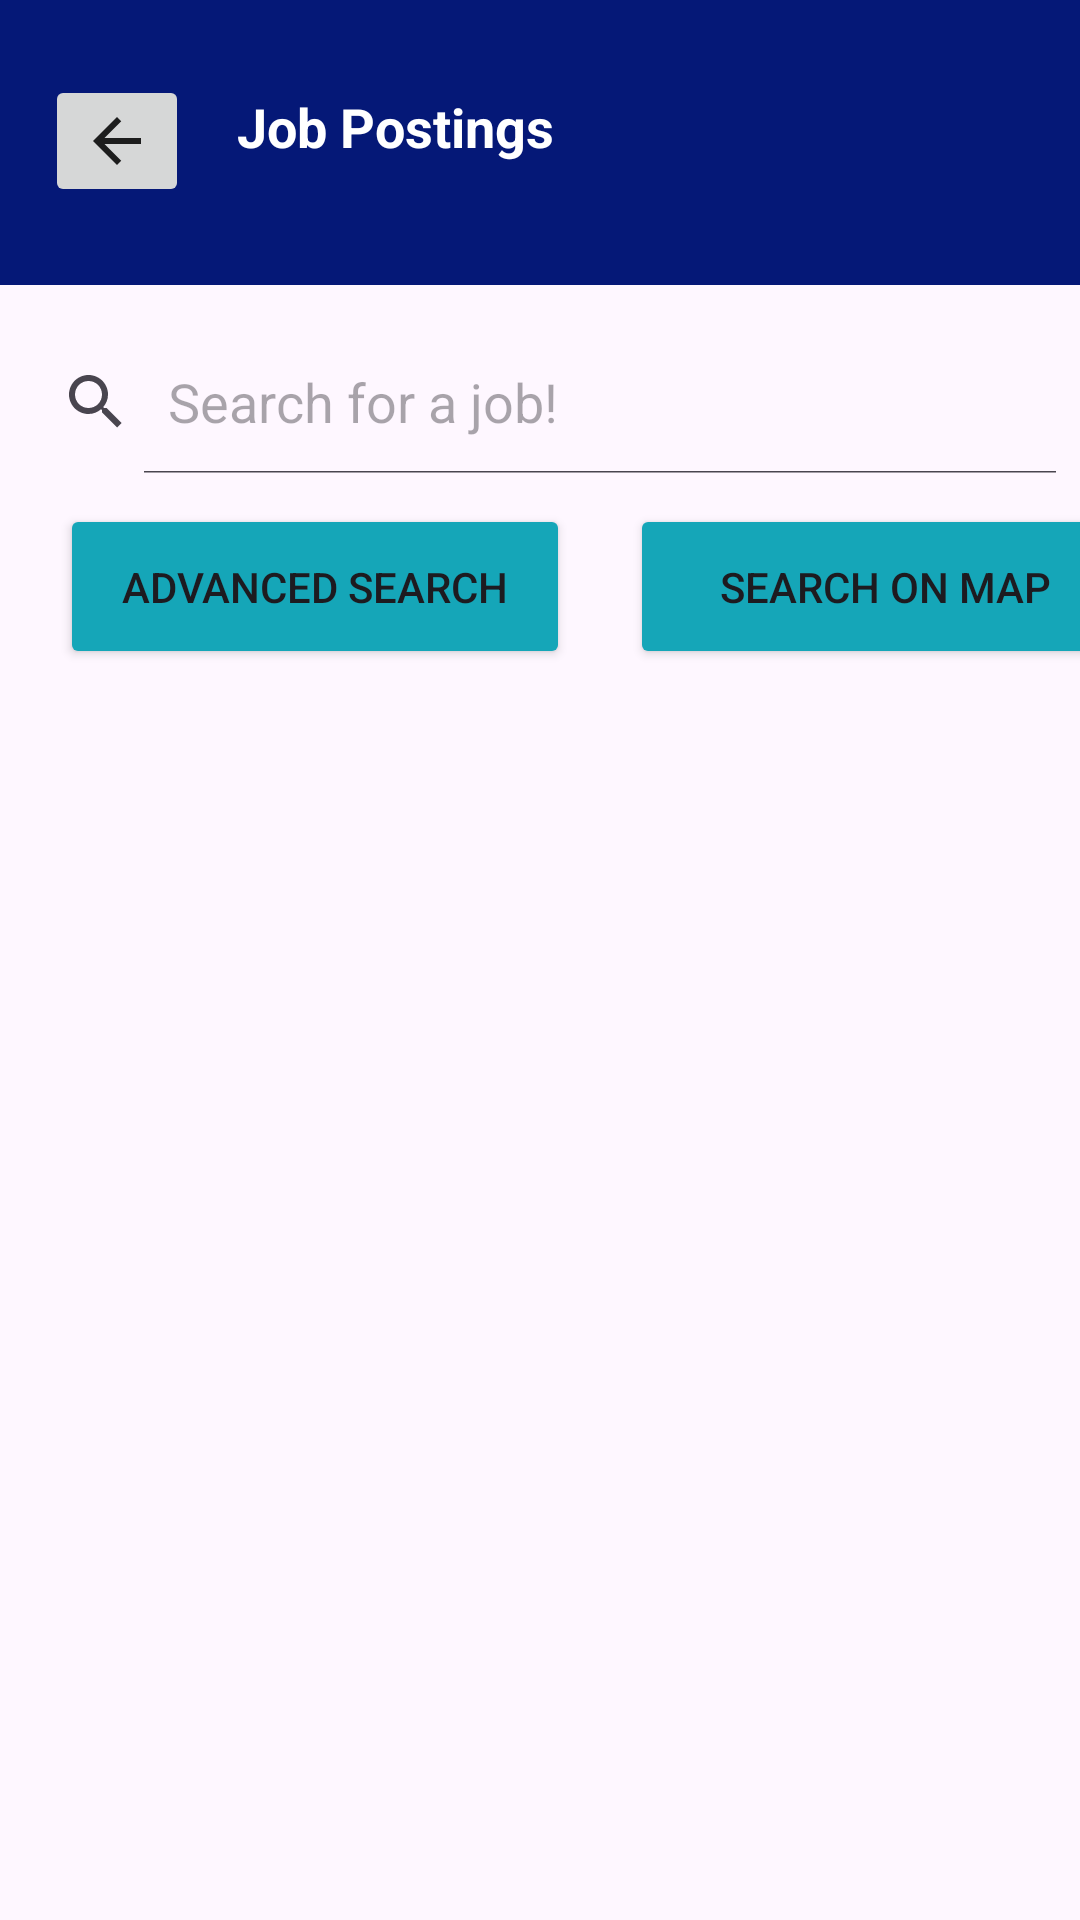

Icon bounding boxes for this 1080w x 1920h phone screenshot, format (x1, y1, x2, y2):
arrow back: (57, 93, 177, 189)
